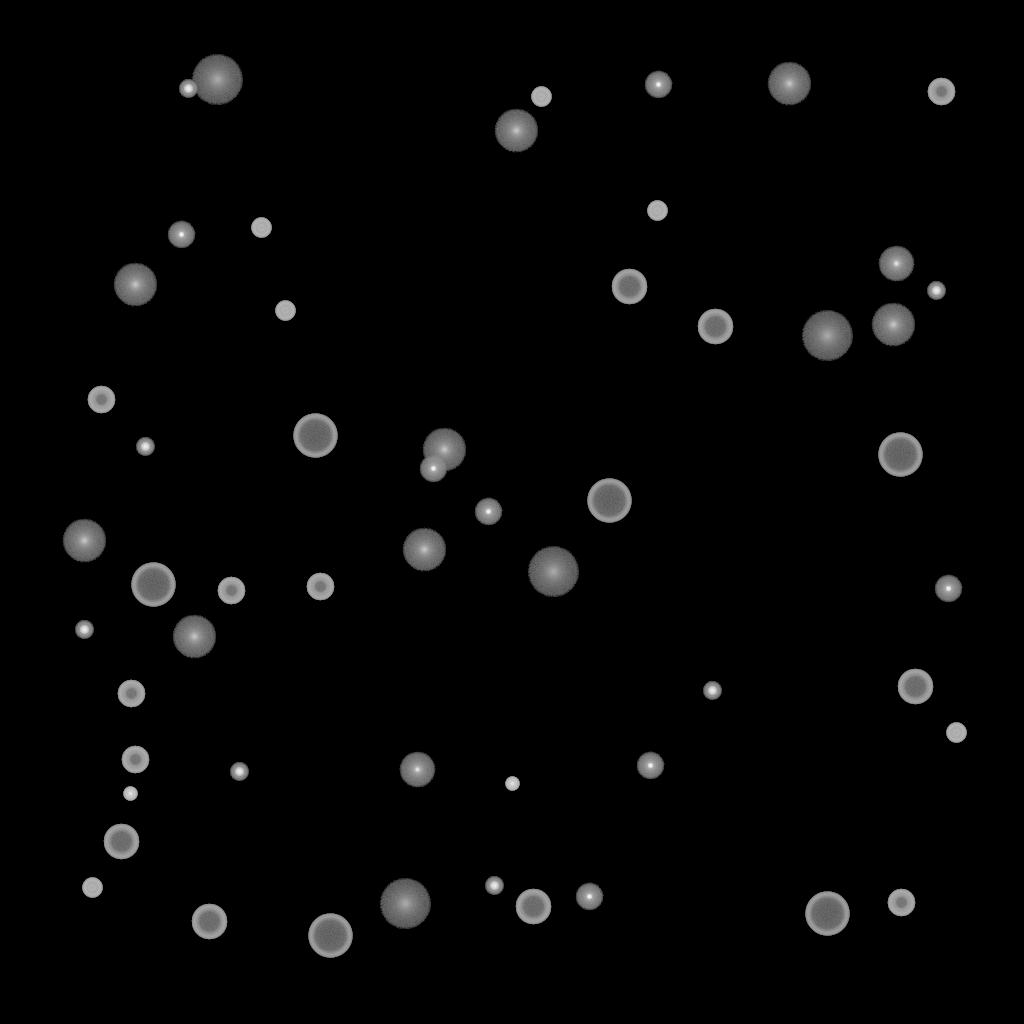depth:-10: (167, 221, 195, 249), (934, 575, 962, 603), (575, 883, 603, 911), (636, 752, 664, 780), (474, 498, 502, 526), (419, 455, 447, 483), (644, 71, 672, 99)
depth:-20: (230, 763, 248, 781), (136, 438, 154, 456), (75, 621, 93, 639), (179, 80, 197, 98), (485, 877, 503, 895), (927, 282, 945, 300), (703, 682, 721, 700)
depth:-30: (123, 787, 137, 801), (505, 777, 519, 791)
depth:-40: (946, 723, 966, 743), (531, 87, 551, 107), (251, 218, 271, 238), (275, 301, 295, 321), (647, 201, 667, 221), (82, 878, 102, 898)
depth:-50: (306, 573, 334, 601), (87, 386, 115, 414), (121, 746, 149, 774), (117, 680, 145, 708), (927, 78, 955, 106), (217, 577, 245, 605), (887, 889, 915, 917)
depth:-60: (897, 669, 933, 705), (515, 889, 551, 925), (697, 309, 733, 345), (103, 824, 139, 860), (611, 269, 647, 305), (191, 904, 227, 940)
depth:-70: (587, 479, 631, 523), (878, 433, 922, 477), (131, 563, 175, 607), (308, 914, 352, 958), (293, 414, 337, 458), (805, 892, 849, 936)
depth:0: (399, 752, 435, 788), (878, 246, 914, 282)
depth:10: (422, 428, 466, 472), (871, 303, 915, 347), (767, 62, 811, 106), (62, 519, 106, 563), (402, 528, 446, 572), (172, 615, 216, 659), (494, 109, 538, 153), (113, 263, 157, 307)
depth:20: (379, 879, 431, 929), (801, 311, 853, 361), (191, 55, 243, 105), (527, 547, 579, 597)
